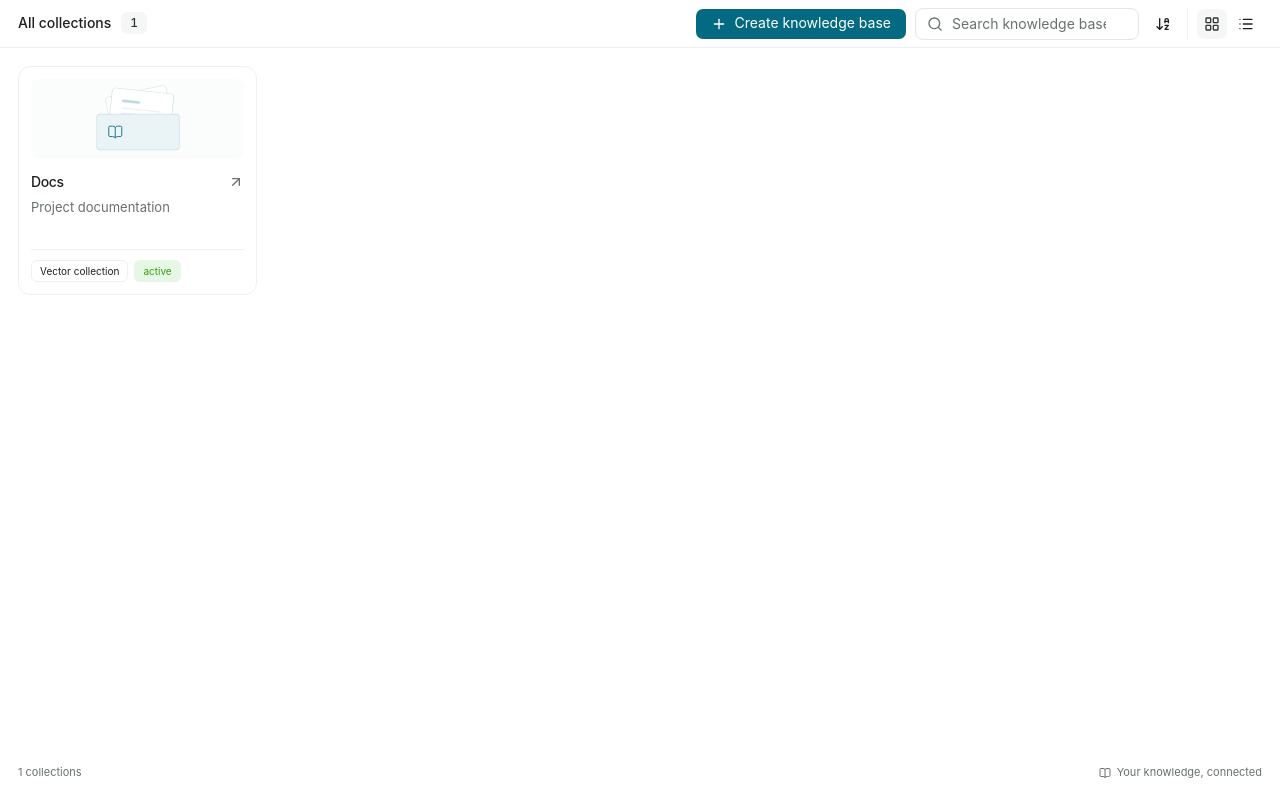
Test: keeps the create form accessible without repeating promotional helper copy
Expected: the heading "Docs" is shown, left=31, top=171, right=64, bottom=193
Click the button "Create knowledge base" at (801, 24), box left=694, top=8, right=907, bottom=40
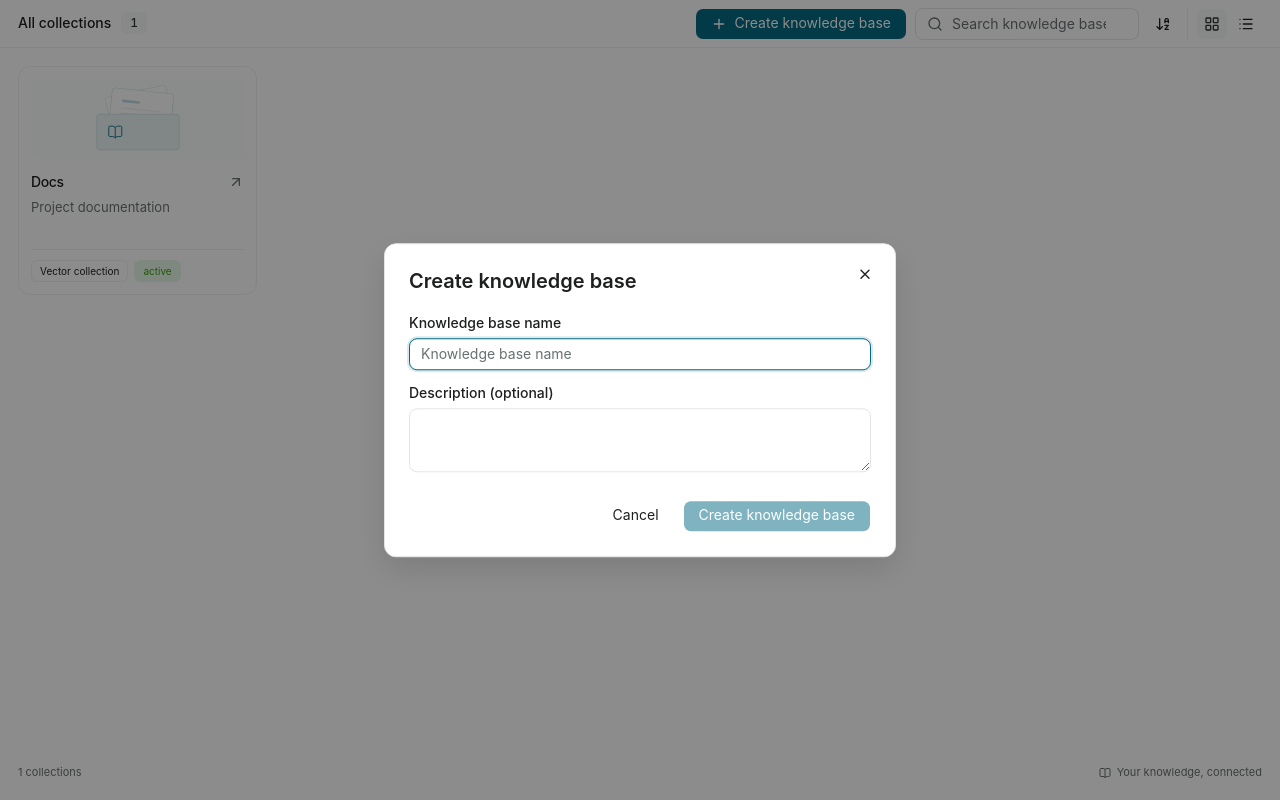
Expected: the dialog "Create knowledge base" is shown, left=384, top=243, right=896, bottom=557
Expected: the field labelled "Knowledge base name" is shown, left=409, top=338, right=871, bottom=370
